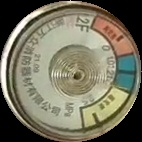green: (112, 55, 136, 93)
red: (94, 16, 135, 56)
yellow: (83, 86, 130, 129)
